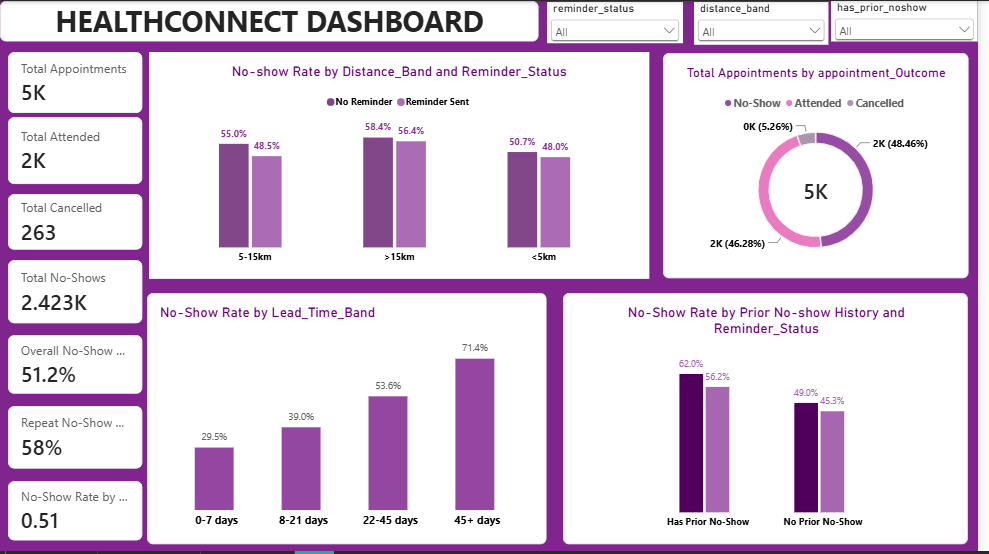

The page's visual inventory and layout, read from the dashboard file:
{"tool":"powerbi","page":{"name":"Overview","canvas":[1280,720],"ordinal":0},"visuals":[{"type":"textbox","box":[0,0,705.3,52.9],"z":0},{"type":"cardVisual","fields":{"Data":["Measures (2).Total Appointments"]},"box":[10.3,66.1,176.3,80.8],"z":1000},{"type":"cardVisual","fields":{"Data":["Measures (2).Total No-Shows"]},"box":[10.3,339.4,176.3,83.8],"z":2000},{"type":"cardVisual","fields":{"Data":["Measures (2).Overall No-Show Rate"]},"box":[10.3,437.9,176.3,77.9],"z":3000},{"type":"cardVisual","fields":{"Data":["Measures (2).No-Show Rate by Distance"]},"box":[10,628,176,78],"z":4000},{"type":"cardVisual","fields":{"Data":["Measures (2).Repeat No-Show Rate"]},"box":[10.3,530.4,176.3,82.3],"z":5000},{"type":"clusteredColumnChart","title":"No-show Rate by Distance_Band and Reminder_Status","fields":{"Category":["HealthConnect_Appointment_Data_.distance_band"],"Series":["HealthConnect_Appointment_Data_.reminder_status"],"Y":["Measures (2).No-Show Rate"]},"box":[195.4,66.1,655.3,296.8],"z":7000},{"type":"clusteredColumnChart","title":"No-Show Rate by Lead_Time_Band","fields":{"Category":["HealthConnect_Appointment_Data_.lead_time_band"],"Y":["Measures (2).No-Show Rate"]},"box":[192.5,382,523.1,329.1],"z":8000},{"type":"donutChart","title":"Total Appointments by appointment_Outcome","fields":{"Category":["HealthConnect_Appointment_Data_.appointment_outcome"],"Y":["Measures (2).Total Appointments"]},"box":[868.4,67.6,399.7,295.3],"z":9000},{"type":"slicer","fields":{"Values":["HealthConnect_Appointment_Data_.distance_band"]},"box":[908.1,1.5,176.3,55.8],"z":10000},{"type":"slicer","fields":{"Values":["HealthConnect_Appointment_Data_.reminder_status"]},"box":[715.6,1.5,177.8,54.4],"z":11000},{"type":"slicer","fields":{"Values":["HealthConnect_Appointment_Data_.has_prior_noshow"]},"box":[1087.3,0,192.5,52.9],"z":12000},{"type":"clusteredColumnChart","title":"No-Show Rate by Prior No-show History and Reminder_Status","fields":{"Category":["HealthConnect_Appointment_Data_.has_prior_noshow"],"Series":["HealthConnect_Appointment_Data_.reminder_status"],"Y":["Measures (2).No-Show Rate"]},"box":[737.6,382,530.4,329.1],"z":13000},{"type":"cardVisual","fields":{"Data":["Measures (2).Total Attended"]},"box":[10.3,151.3,176.3,88.2],"z":14000},{"type":"cardVisual","fields":{"Data":["Measures (2).Total Cancelled"]},"box":[10.3,252.7,176.3,73.5],"z":15000}]}

Visuals, with their boxes in screenshot pixels (x1, y1, x2, y2), scaled from the page's 1280x720 canvas onto the 989x554 screenshot:
textbox: detection(0, 0, 545, 41)
cardVisual - Measures (2).Total Appointments: detection(8, 51, 144, 113)
cardVisual - Measures (2).Total No-Shows: detection(8, 261, 144, 326)
cardVisual - Measures (2).Overall No-Show Rate: detection(8, 337, 144, 397)
cardVisual - Measures (2).No-Show Rate by Distance: detection(8, 483, 144, 543)
cardVisual - Measures (2).Repeat No-Show Rate: detection(8, 408, 144, 471)
"No-show Rate by Distance_Band and Reminder_Status" clusteredColumnChart: detection(151, 51, 657, 279)
"No-Show Rate by Lead_Time_Band" clusteredColumnChart: detection(149, 294, 553, 547)
"Total Appointments by appointment_Outcome" donutChart: detection(671, 52, 980, 279)
slicer - HealthConnect_Appointment_Data_.distance_band: detection(702, 1, 838, 44)
slicer - HealthConnect_Appointment_Data_.reminder_status: detection(553, 1, 690, 43)
slicer - HealthConnect_Appointment_Data_.has_prior_noshow: detection(840, 0, 988, 41)
"No-Show Rate by Prior No-show History and Reminder_Status" clusteredColumnChart: detection(570, 294, 980, 547)
cardVisual - Measures (2).Total Attended: detection(8, 116, 144, 184)
cardVisual - Measures (2).Total Cancelled: detection(8, 194, 144, 251)
